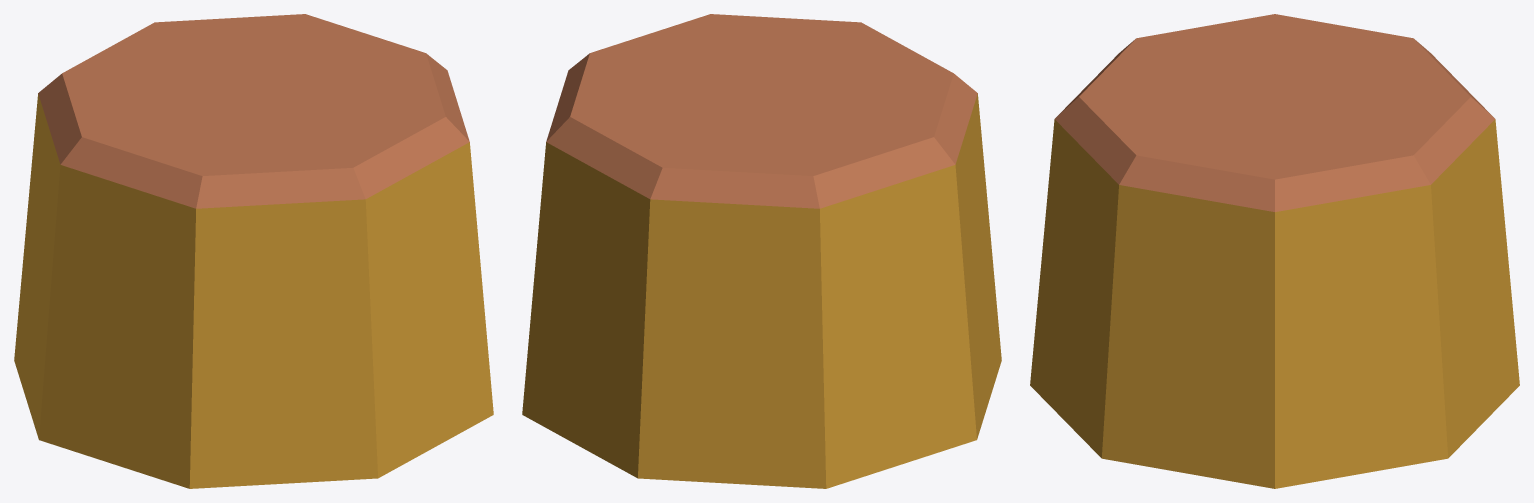
The model's file is pouf.glb.
The picture shows the model from 3 angles, left to right: view 1: azimuth 30°, elevation 25°; view 2: azimuth 150°, elevation 25°; view 3: azimuth 270°, elevation 25°; orthographic projection.
Parts seen in each view (by area): view 1: pouf-col; view 2: pouf-col; view 3: pouf-col.
Part boxes in pixels (left/top/right/bottom): pouf-col: left=14, top=14, right=493, bottom=488; pouf-col: left=522, top=14, right=1001, bottom=488; pouf-col: left=1030, top=14, right=1519, bottom=488.
Size of the model in its own units: 0.6 by 0.39 by 0.6.
